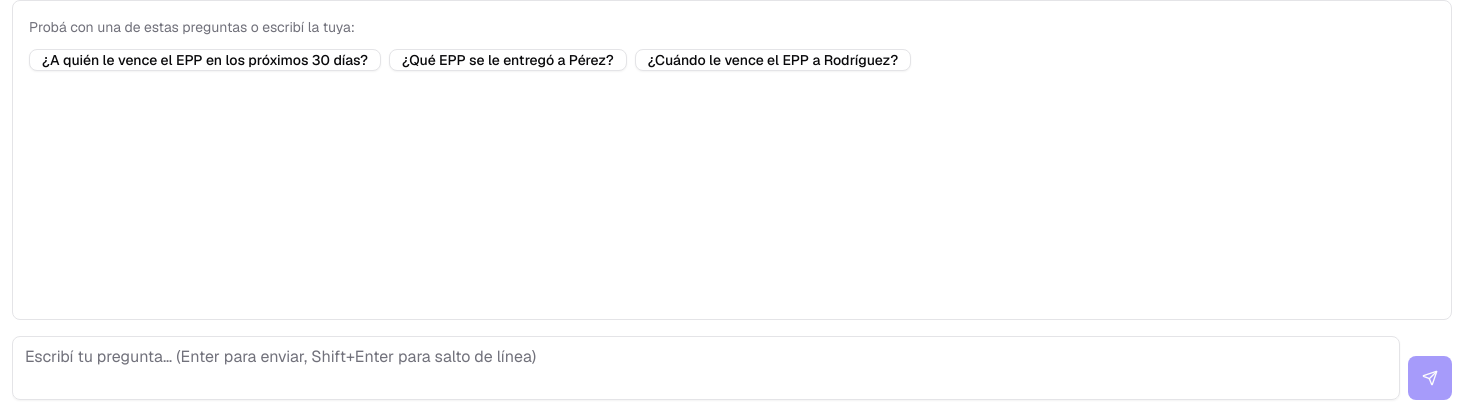
Test: AsistenteChat (streaming) › descarta el texto previo a un evento tool (narración del modelo)
Click the button "¿Qué EPP se le entregó a Pérez?" at (508, 60), box [389,49,627,71]
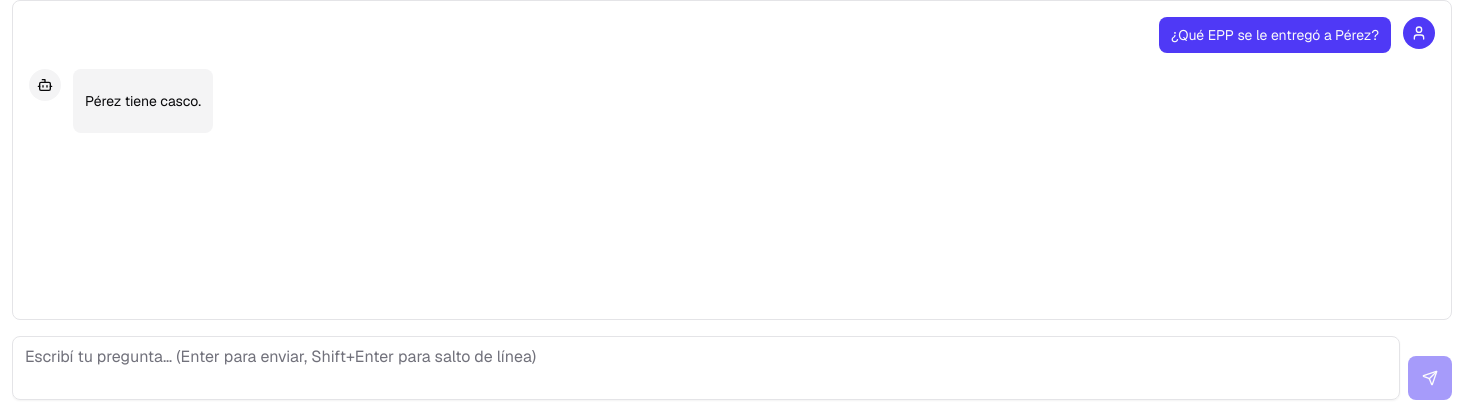
Check: the text "Pérez tiene casco." is shown, box [85,89,201,113]
